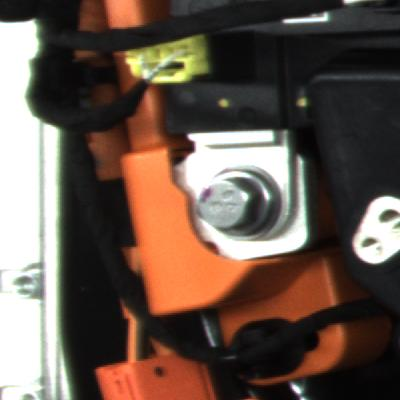nut_b: (182, 156, 285, 252)
